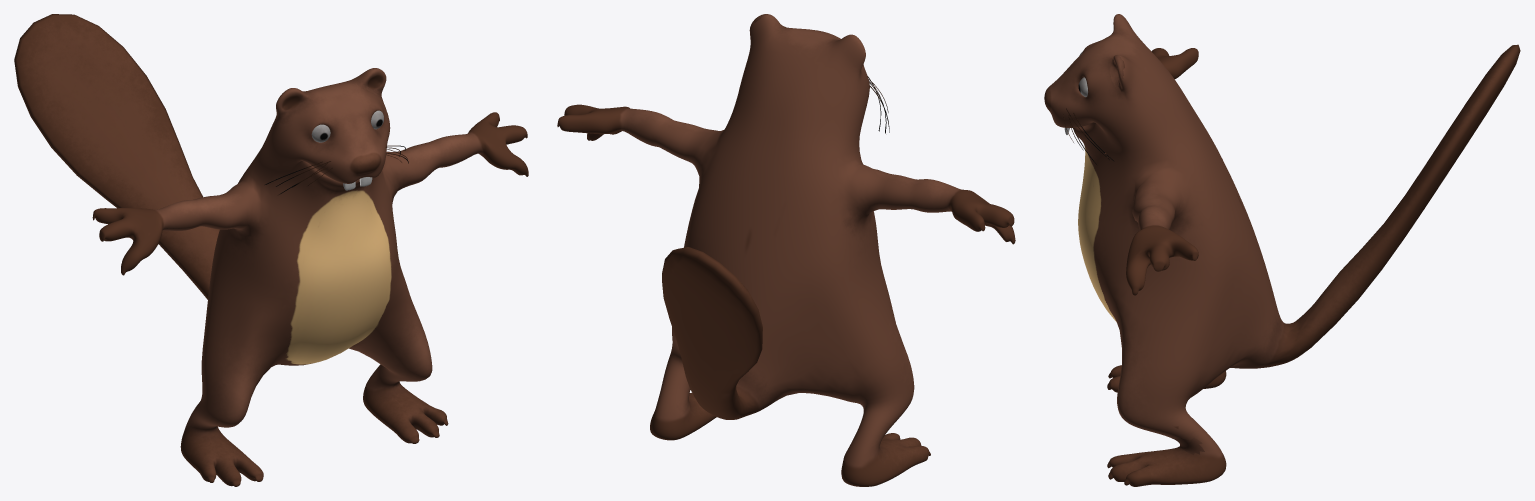
The model's file is bever.fbx.
3 views of the same model, side by side, from view 1: azimuth 30°, elevation 25°; view 2: azimuth 150°, elevation 25°; view 3: azimuth 270°, elevation 25° (orthographic). The views are drawn at different scales.
Visible parts, largest first — view 1: kunduz; view 2: kunduz; view 3: kunduz.
Part boxes in pixels (left/top/right/bottom): kunduz: left=14, top=14, right=528, bottom=486; kunduz: left=557, top=14, right=1015, bottom=486; kunduz: left=1044, top=14, right=1520, bottom=486.
Bounding box in the file's own units: 2152 × 1852 × 2023.
Materials: 1 (1 with a texture image).
